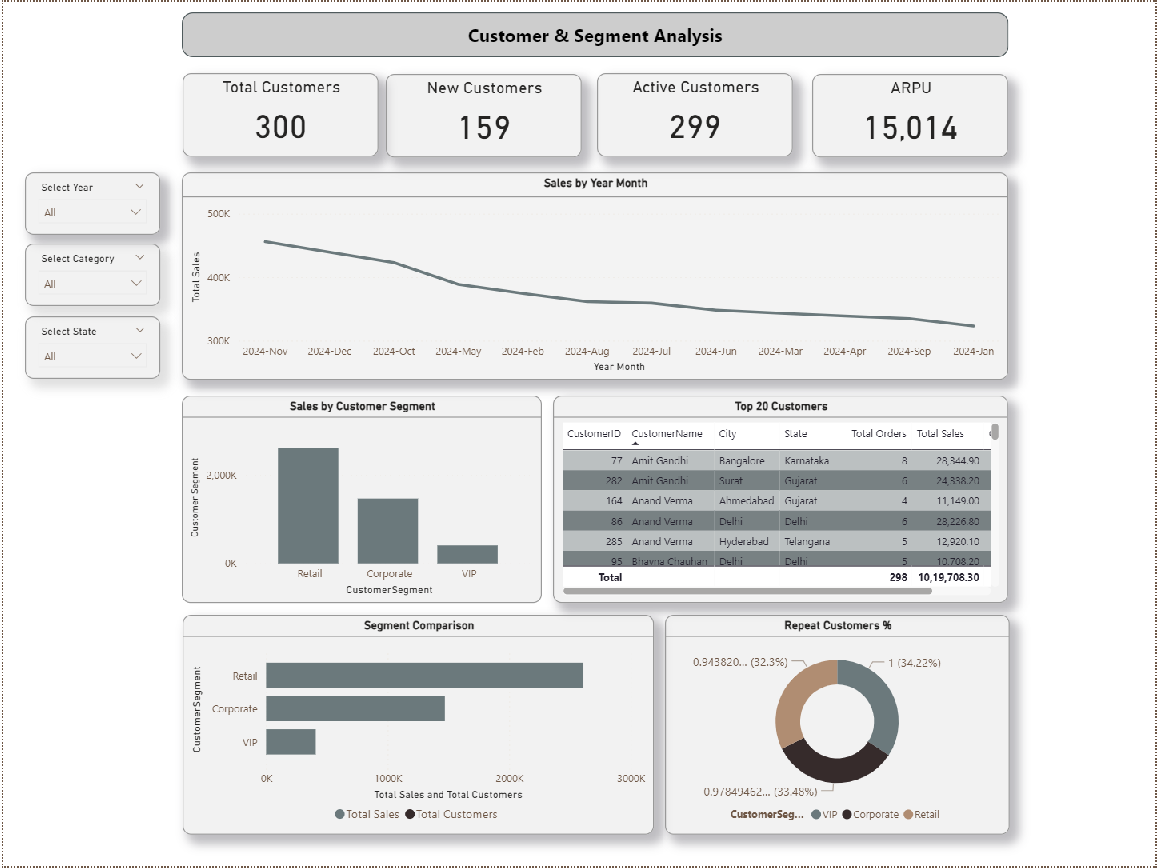

The dashboard page shown, as its layout file describes it:
{"tool":"powerbi","page":{"name":"Customer & Segment Analysis","canvas":[1200,900],"ordinal":1},"visuals":[{"type":"slicer","fields":{"Values":["Dim_Date.Year"]},"box":[22.2,177.3,140.7,65.4],"z":0},{"type":"slicer","fields":{"Values":["Dim_products.Category"]},"box":[22.1,251.3,141.3,65.1],"z":1000},{"type":"slicer","fields":{"Values":["Dim_customers.State"]},"box":[22.1,327.4,141.3,65.1],"z":2000},{"type":"card","title":"Total Customers","fields":{"Values":["Measures _Temp.Total Customers"]},"box":[186.4,74.5,204.2,87],"z":3000},{"type":"card","title":"New Customers","fields":{"Values":["Measures _Temp.New Customer"]},"box":[398.1,74.9,204,86.6],"z":4000},{"type":"card","title":"Active Customers","fields":{"Values":["Measures _Temp.Active Customers"]},"box":[618,74.3,204,86.6],"z":5000},{"type":"card","title":"ARPU","fields":{"Values":["Measures _Temp.ARPU"]},"box":[842.9,74.9,204,86.6],"z":6000},{"type":"columnChart","title":"Sales by Customer Segment","fields":{"Category":["Dim_customers.CustomerSegment"],"Y":["Measures _Temp.Total Sales"]},"box":[185.8,410.1,374.7,215.8],"z":7000},{"type":"lineChart","title":"Sales by Year Month","fields":{"Category":["Dim_Date.Year Month"],"Y":["Measures _Temp.Total Sales"]},"box":[186.1,177.5,860.7,216.2],"z":8000},{"type":"tableEx","title":"Top 20 Customers","fields":{"Values":["Dim_customers.CustomerID","Dim_customers.CustomerName","Dim_customers.City","Dim_customers.State","Measures _Temp.Total Orders","Measures _Temp.Total Sales","Measures _Temp.Customer LTV"]},"box":[572.9,410.1,473.8,215.8],"z":9000},{"type":"barChart","title":"Segment Comparison","fields":{"Category":["Dim_customers.CustomerSegment"],"Y":["Measures _Temp.Total Sales","Measures _Temp.Total Customers"]},"box":[186.6,638.1,490.7,228.8],"z":10000},{"type":"donutChart","title":"Repeat Customers %","fields":{"Category":["Dim_customers.CustomerSegment"],"Y":["Measures _Temp.Repeat Customers %"]},"box":[688.8,638.1,358.6,228.8],"z":11000},{"type":"shape","box":[186,10.7,861.3,46.7],"z":11001}]}

Visuals, with their boxes in screenshot pixels (x1, y1, x2, y2), scaled from the page's 1200x900 canvas onto the 1159x868 screenshot:
slicer - Dim_Date.Year: box=[21, 171, 157, 234]
slicer - Dim_products.Category: box=[21, 242, 158, 305]
slicer - Dim_customers.State: box=[21, 316, 158, 379]
"Total Customers" card: box=[180, 72, 377, 156]
"New Customers" card: box=[384, 72, 582, 156]
"Active Customers" card: box=[597, 72, 794, 155]
"ARPU" card: box=[814, 72, 1011, 156]
"Sales by Customer Segment" columnChart: box=[179, 396, 541, 604]
"Sales by Year Month" lineChart: box=[180, 171, 1011, 380]
"Top 20 Customers" tableEx: box=[553, 396, 1011, 604]
"Segment Comparison" barChart: box=[180, 615, 654, 836]
"Repeat Customers %" donutChart: box=[665, 615, 1012, 836]
shape: box=[180, 10, 1012, 55]
